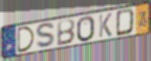B: (56, 18, 77, 47)
D: (115, 8, 136, 38), (17, 26, 37, 55)
K: (98, 12, 114, 39)
O: (76, 16, 96, 44)
S: (35, 22, 57, 50)
